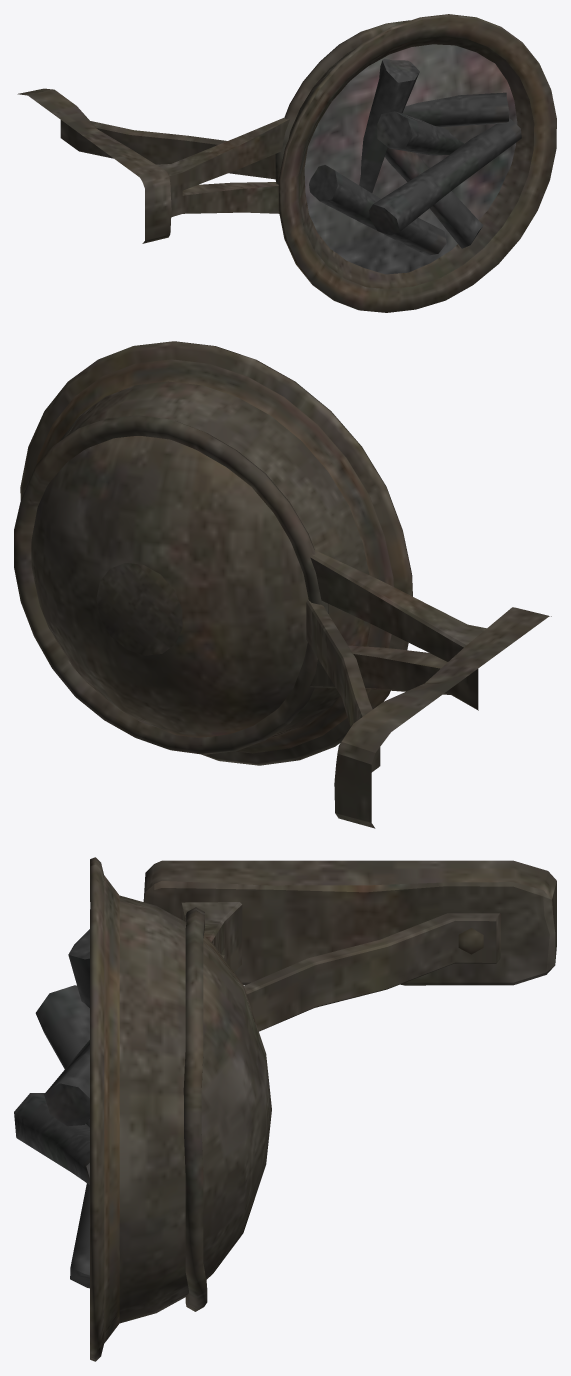
File: GEN_PRO_Brasero_Wall_Metal_WS_01A_LOD0-transformed.glb
3 views of the same model, one above another, from view 1: azimuth 30°, elevation 25°; view 2: azimuth 150°, elevation 25°; view 3: azimuth 270°, elevation 25° (orthographic). The views are drawn at different scales.
Visible parts, largest first — view 1: GEN_PRO_Brasero_Wall_Metal_WS_01A_LOD0; view 2: GEN_PRO_Brasero_Wall_Metal_WS_01A_LOD0; view 3: GEN_PRO_Brasero_Wall_Metal_WS_01A_LOD0.
Part boxes in pixels (x1,y1,x2,y2): GEN_PRO_Brasero_Wall_Metal_WS_01A_LOD0: [17, 14, 556, 312]; GEN_PRO_Brasero_Wall_Metal_WS_01A_LOD0: [14, 341, 551, 828]; GEN_PRO_Brasero_Wall_Metal_WS_01A_LOD0: [14, 857, 556, 1361].
Bounding box in the file's own units: 0.00813 × 0.00573 × 0.00616.
2 materials, 2 textured.
